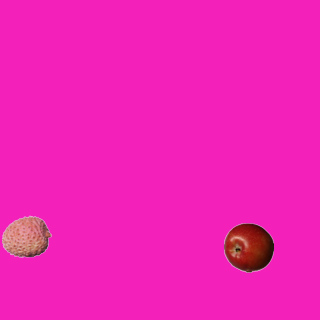Apple Braeburn: (223, 222, 273, 272)
Lychee: (1, 211, 51, 261)
